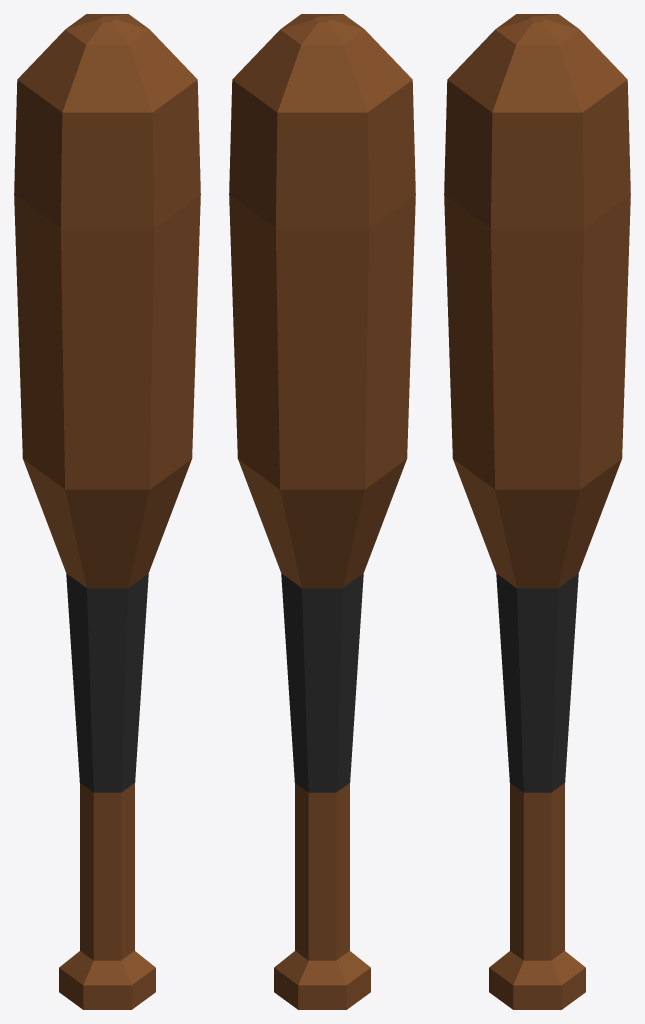
3 renders of one model, left to right at view 1: azimuth 30°, elevation 25°; view 2: azimuth 150°, elevation 25°; view 3: azimuth 270°, elevation 25°, orthographic.
Visible parts, largest first — view 1: Cylinder; view 2: Cylinder; view 3: Cylinder.
Part boxes in pixels (left/top/right/bottom): Cylinder: left=14, top=14, right=200, bottom=1009; Cylinder: left=229, top=14, right=415, bottom=1009; Cylinder: left=444, top=14, right=630, bottom=1009.
Size of the model in its own units: 108 by 715 by 124.
